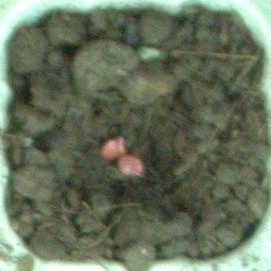chilli seed: (98, 135, 128, 162), (115, 154, 146, 179)
